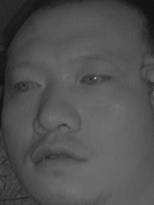eye: (77, 68, 114, 90), (12, 73, 43, 96)
mouth: (30, 138, 87, 174)
